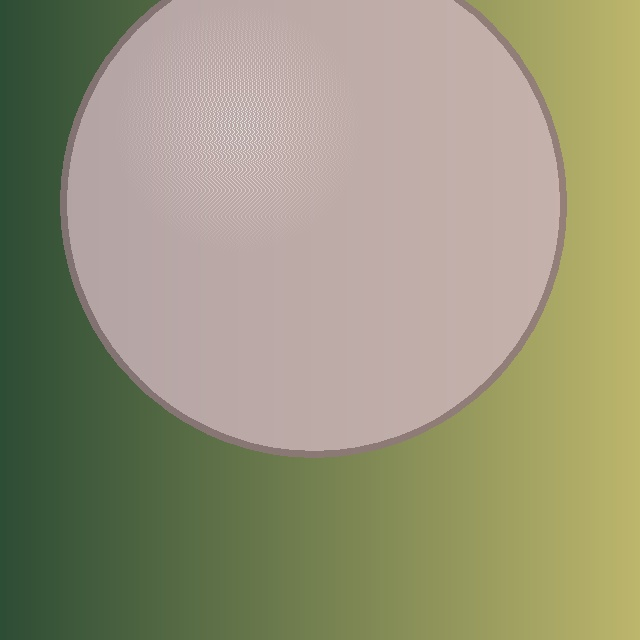lens: (63, 0, 563, 454)
